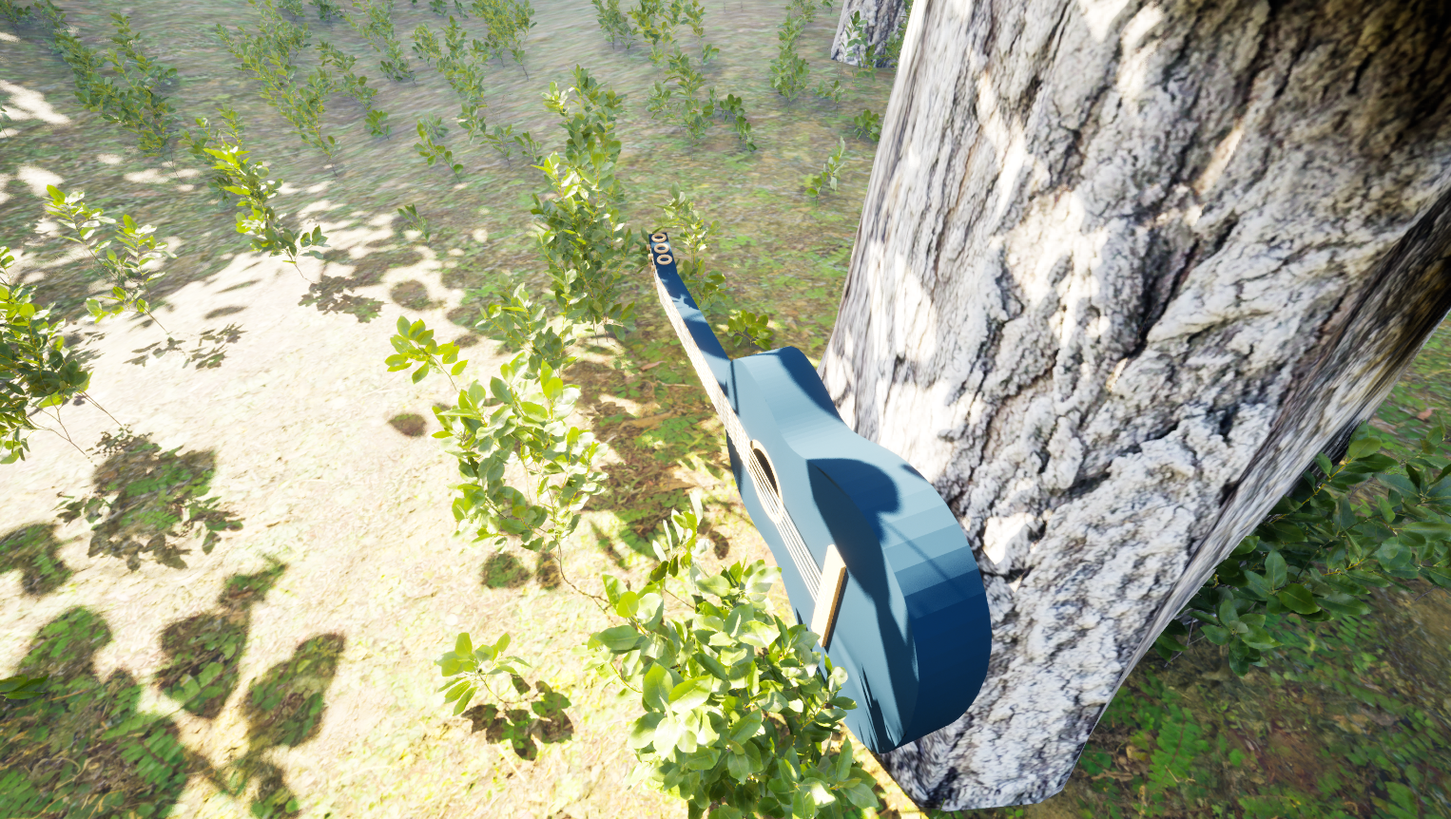Guitar: (626, 152, 1037, 791)
